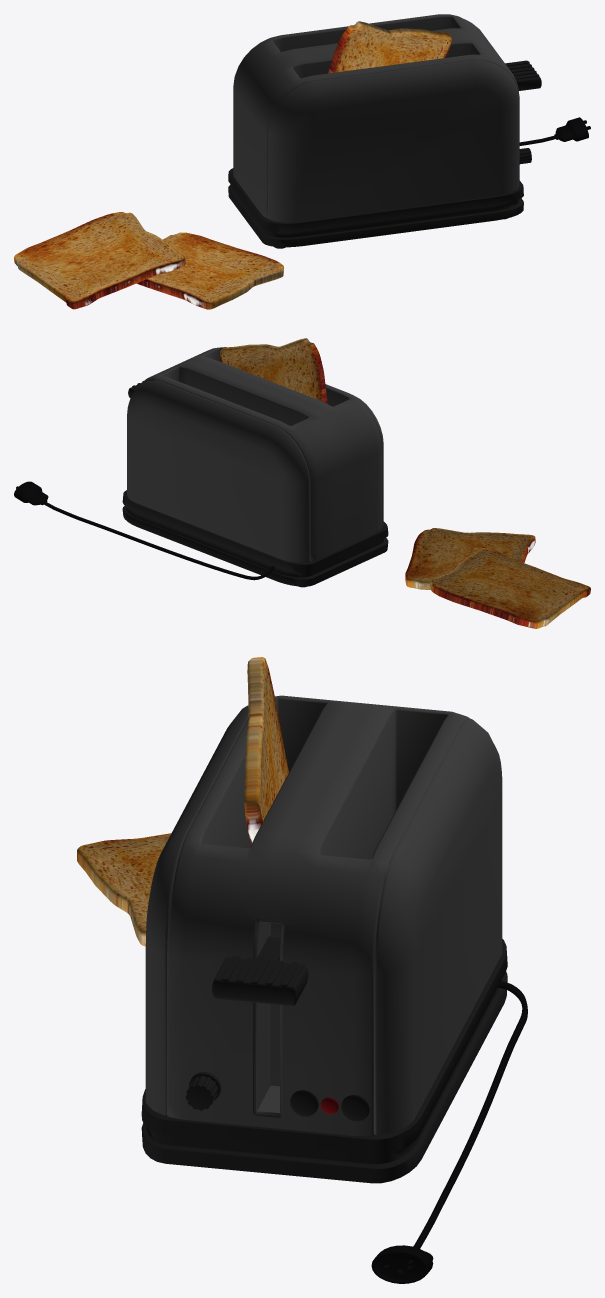
File: touster.obj
The picture shows the model from 3 angles, top to bottom: view 1: azimuth 30°, elevation 25°; view 2: azimuth 150°, elevation 25°; view 3: azimuth 270°, elevation 25°; orthographic projection. The views are drawn at different scales.
Parts seen in each view (by area): view 1: polymsh_detached2, cube76, cube2, cube7, cube, cube1, cube75, cylinder16; view 2: polymsh_detached2, cube76, cube2, cube7, cube, cube1, cylinder, cylinder16; view 3: cube76, polymsh_detached2, cube7, cube1, cube, cube75, cylinder, cylinder16, cylinder15.
Part boxes in pixels (x1,y1,x2,y2): polymsh_detached2: (238,14,519,222); cube76: (233,14,519,218); cube2: (14,212,185,309); cube7: (228,168,523,247); cube: (136,232,283,309); cube1: (328,21,452,73); cube75: (505,60,541,90); cylinder16: (555,117,588,141); polymsh_detached2: (127,380,383,562); cube76: (136,347,381,561); cube2: (430,548,590,628); cube7: (122,490,388,586); cube: (405,528,535,589); cube1: (220,338,327,403); cylinder: (40,499,274,580); cylinder16: (14,481,48,505); cube76: (167,695,469,1135); polymsh_detached2: (145,705,502,1135); cube7: (141,939,507,1183); cube1: (244,657,288,844); cube: (77,833,171,946); cube75: (212,936,308,1005); cylinder: (413,981,527,1248); cylinder16: (371,1245,433,1283); cylinder15: (185,1072,220,1110).
Size of the model in its own units: 10.33 by 3.61 by 3.8.
